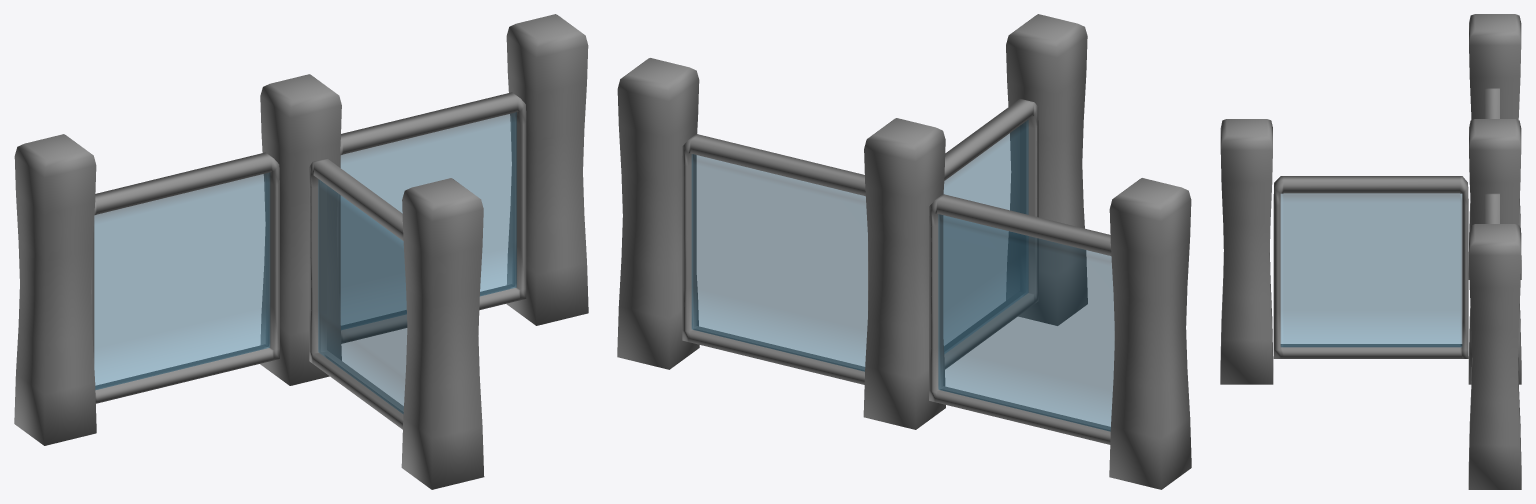
File: GlassHalfWall_T_Border.glb
3 views of the same model, side by side, from view 1: azimuth 30°, elevation 25°; view 2: azimuth 150°, elevation 25°; view 3: azimuth 270°, elevation 25° (orthographic). The views are drawn at different scales.
Parts seen in each view (by area): view 1: 6-StraightGlassBorder.001, 6-StraightGlassBorder.002, 3-PostNARROWER.005, 3-PostNARROWER.006, 6-StraightGlassBorder.003, 3-PostNARROWER.004, 3-PostNARROWER.001; view 2: 6-StraightGlassBorder.002, 6-StraightGlassBorder.001, 3-PostNARROWER.005, 3-PostNARROWER.004, 3-PostNARROWER.001, 6-StraightGlassBorder.003, 3-PostNARROWER.006; view 3: 6-StraightGlassBorder.003, 3-PostNARROWER.006, 3-PostNARROWER.004, 3-PostNARROWER.001, 3-PostNARROWER.005, 6-StraightGlassBorder.001, 6-StraightGlassBorder.002.
Boxes of the visible parts, <box> form: 6-StraightGlassBorder.001: <box>91,152,279,403</box>; 6-StraightGlassBorder.002: <box>336,92,526,343</box>; 3-PostNARROWER.005: <box>14,134,96,445</box>; 3-PostNARROWER.006: <box>401,178,484,489</box>; 6-StraightGlassBorder.003: <box>309,158,407,429</box>; 3-PostNARROWER.004: <box>506,14,588,325</box>; 3-PostNARROWER.001: <box>260,74,341,385</box>; 6-StraightGlassBorder.002: <box>682,134,869,384</box>; 6-StraightGlassBorder.001: <box>929,194,1114,444</box>; 3-PostNARROWER.005: <box>1109,178,1191,489</box>; 3-PostNARROWER.004: <box>617,58,699,369</box>; 3-PostNARROWER.001: <box>863,118,945,429</box>; 6-StraightGlassBorder.003: <box>943,99,1038,369</box>; 3-PostNARROWER.006: <box>1006,14,1087,325</box>; 6-StraightGlassBorder.003: <box>1273,176,1468,358</box>; 3-PostNARROWER.006: <box>1220,119,1273,384</box>; 3-PostNARROWER.004: <box>1468,224,1521,489</box>; 3-PostNARROWER.001: <box>1468,119,1521,384</box>; 3-PostNARROWER.005: <box>1468,14,1521,279</box>; 6-StraightGlassBorder.001: <box>1485,88,1499,118</box>; 6-StraightGlassBorder.002: <box>1485,193,1499,223</box>.
Bounding box in the file's own units: 2.01 × 0.9929 × 1.1.
3 materials, 3 textured.
